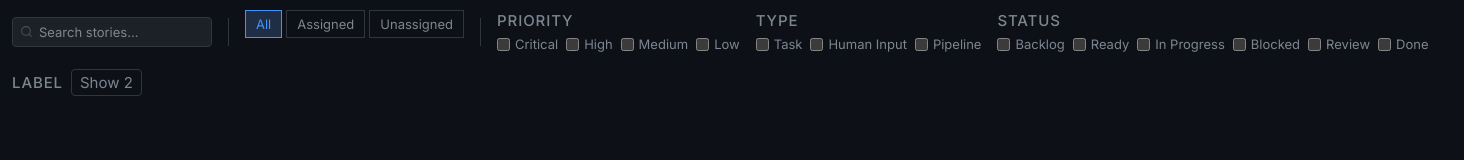
Scenario: FilterBar search › empties the box when the bar's clear-all is pressed
This screenshot has width=1464, height=160.
In the search field labelled "Search stories…": (112, 32) 12,16 -> 212,47, type "cap"
Wait 250 ms
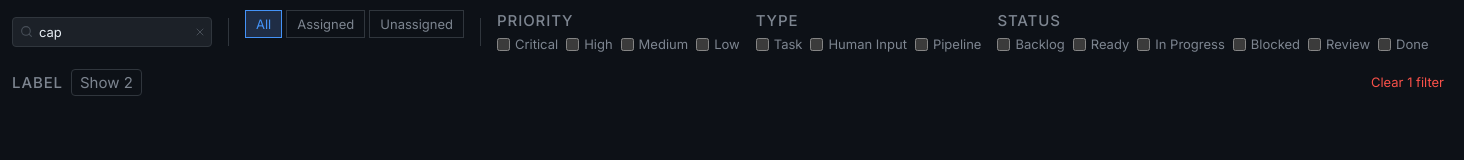
Click the button "Clear 1 filter": (1407, 82) 1363,69 -> 1452,95
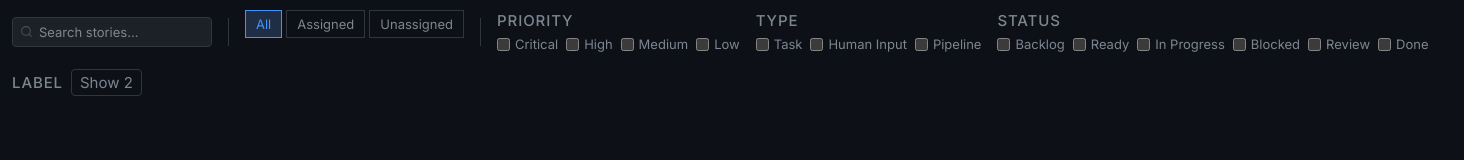
Now the search field labelled "Search stories…" is empty, box 12,16 -> 212,47
Now the button "Clear 1 filter" is gone
